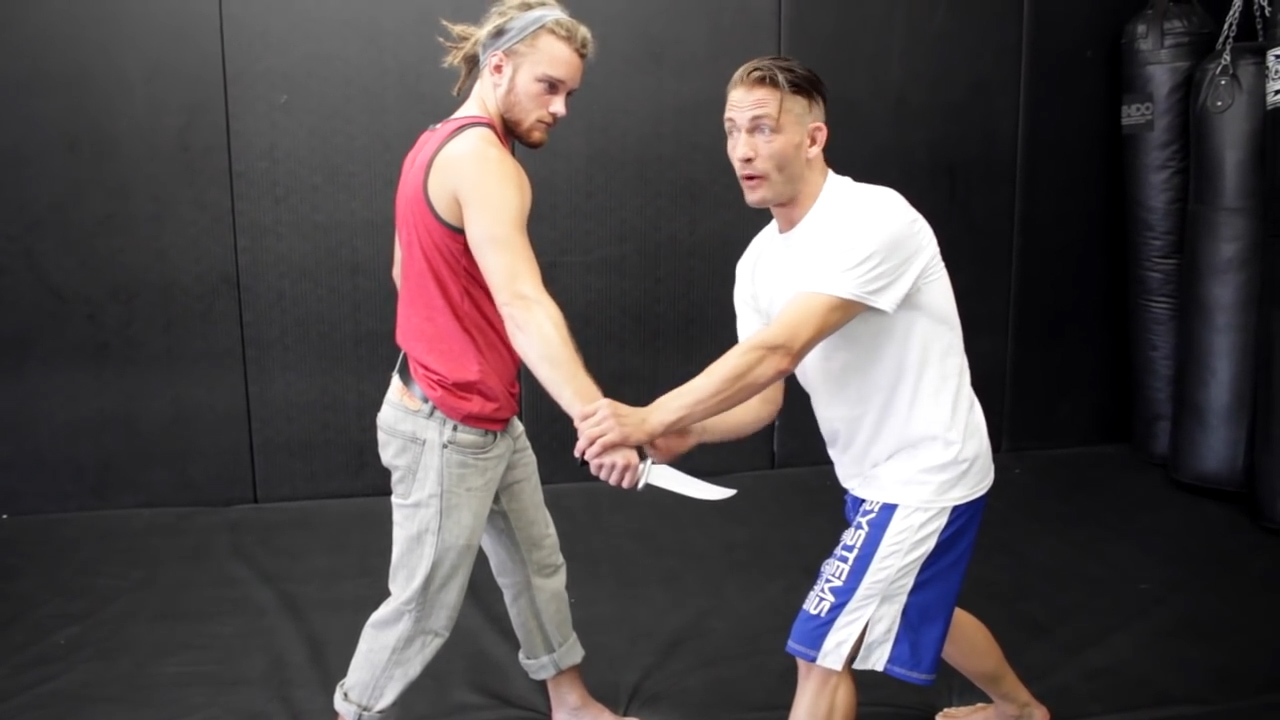knife: (576, 445, 749, 519)
